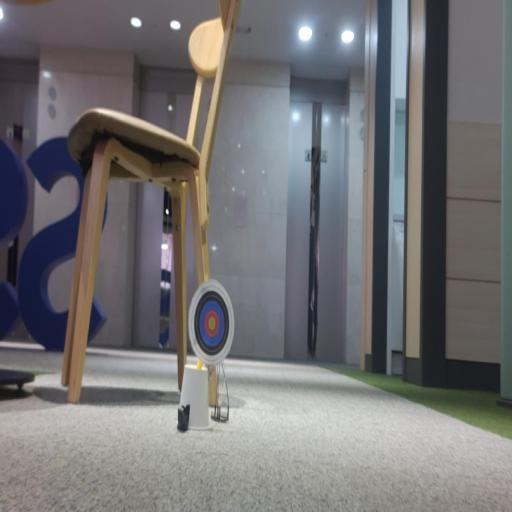target: (188, 279, 234, 365)
